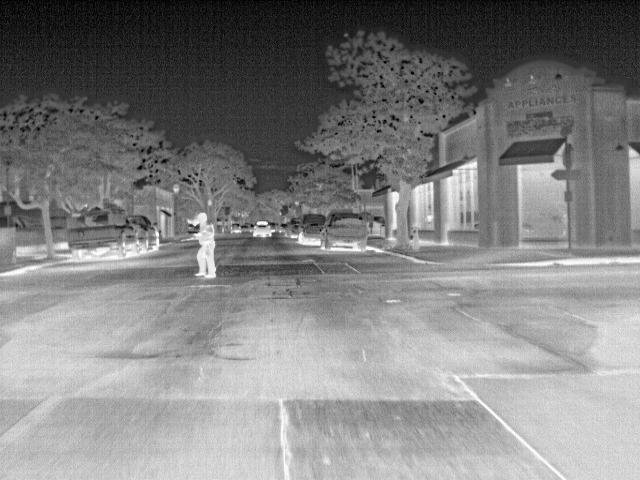car: (65, 213, 140, 259), (319, 209, 369, 251), (298, 213, 329, 245), (140, 214, 161, 248), (251, 220, 272, 241), (286, 219, 304, 239), (228, 222, 244, 234)
person: (188, 210, 220, 279)
